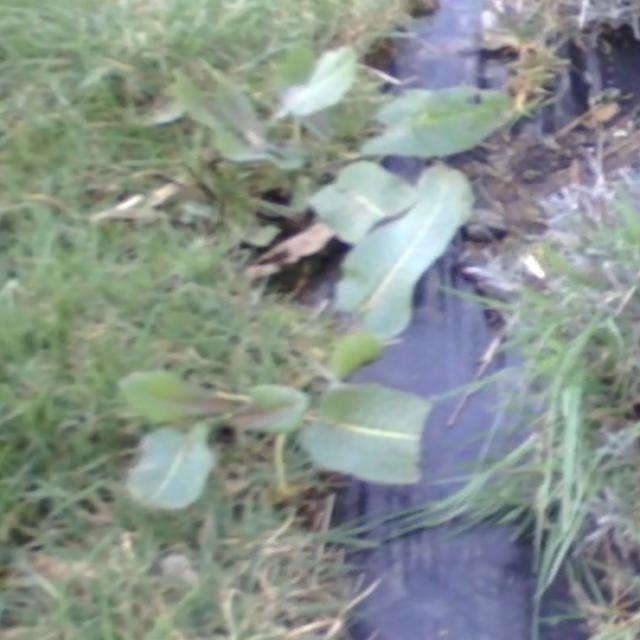organic waste: (35, 320, 454, 558), (158, 0, 519, 254), (241, 147, 506, 378)
